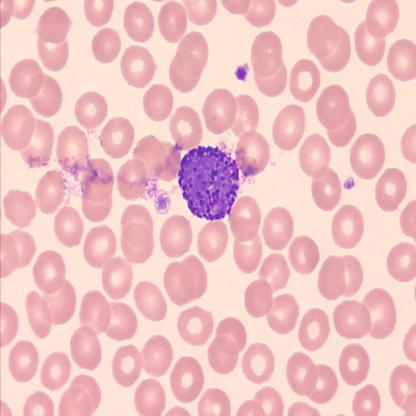Basophil: (175, 143, 242, 223)
